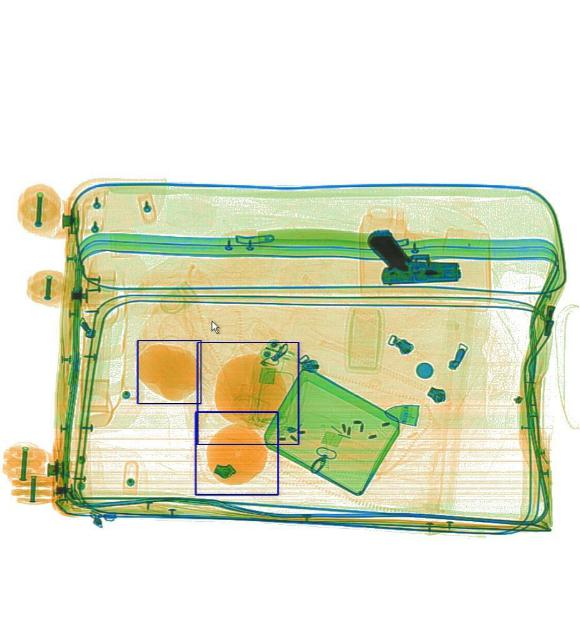Gun: (368, 227, 460, 283)
